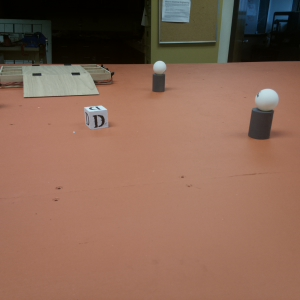obstacle: (248, 87, 280, 142), (148, 60, 168, 93)
side: (93, 62, 114, 84)
slope: (20, 74, 96, 95)
